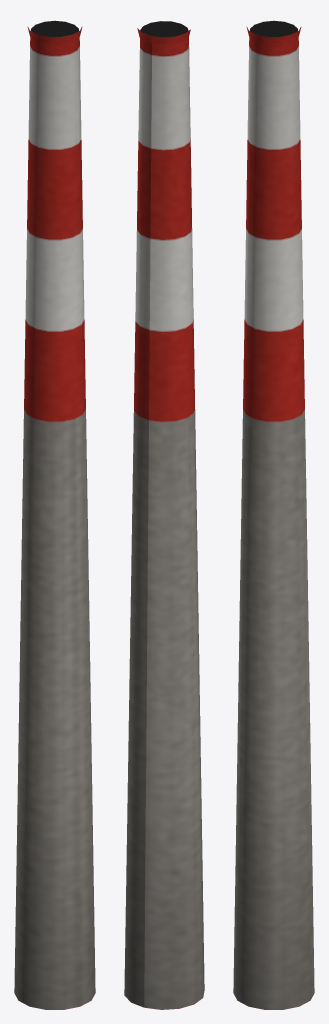
Rendered from chimney.glb.
3 renders of one model, left to right at view 1: azimuth 90°, elevation 25°; view 2: azimuth 150°, elevation 25°; view 3: azimuth 270°, elevation 25°, orthographic.
Visible parts, largest first — view 1: chimney; view 2: chimney; view 3: chimney.
Part boxes in pixels (box(x1,y1,x2,y2)): chimney: box(14, 20, 95, 1009); chimney: box(124, 21, 204, 1009); chimney: box(233, 20, 314, 1009).
Size of the model in its own units: 7.41 by 100 by 7.6.
2 materials, 1 textured.
